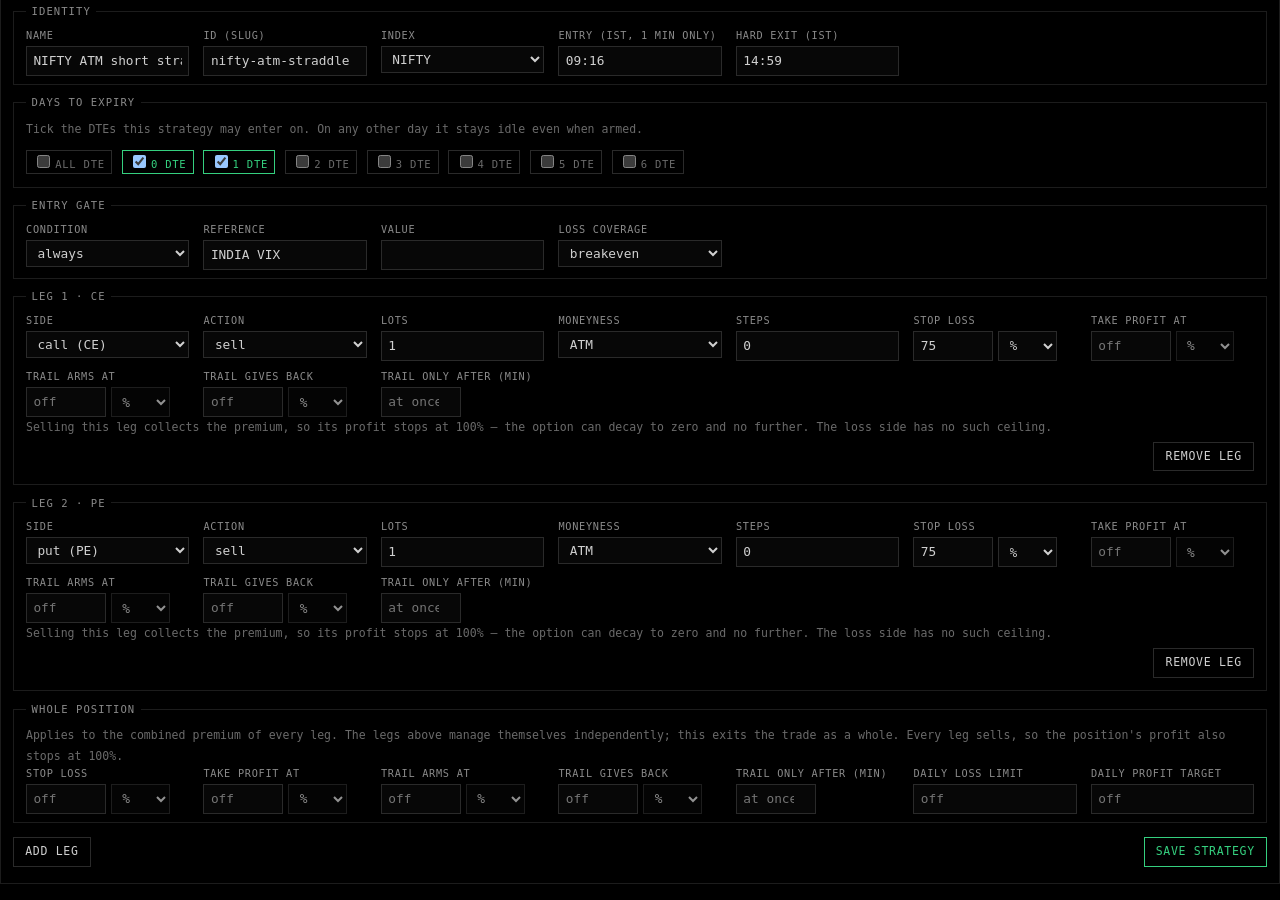
Test: rejection messages › falls back to the raw message when the problem is unrecognised
The image size is (1280, 900).
(page scrolled)
Click the button "save strategy".
click(1205, 852)  # box left=1144, top=837, right=1267, bottom=866
(page scrolled)
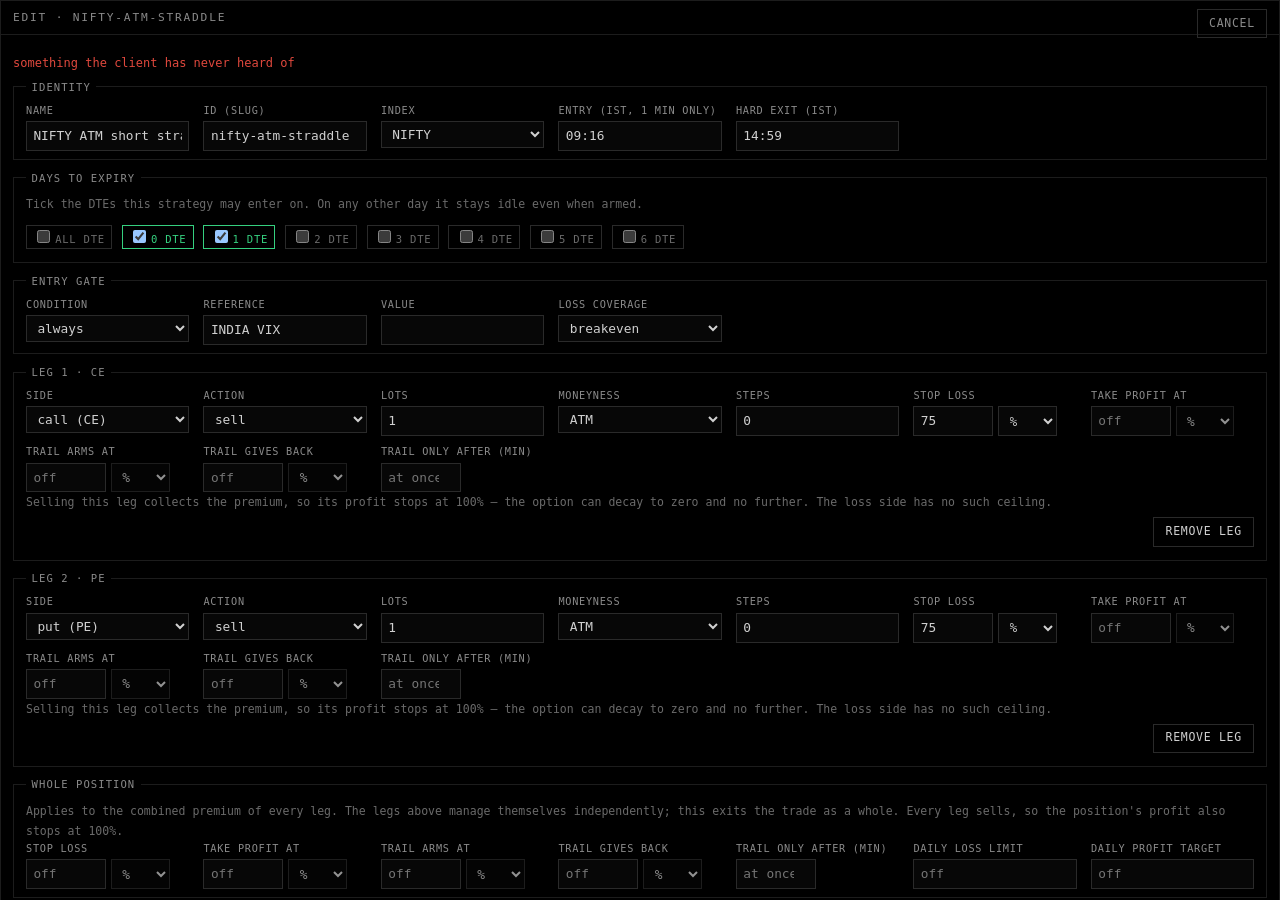
Check: the text "something the client has never heard of" is shown, box left=13, top=56, right=295, bottom=70
